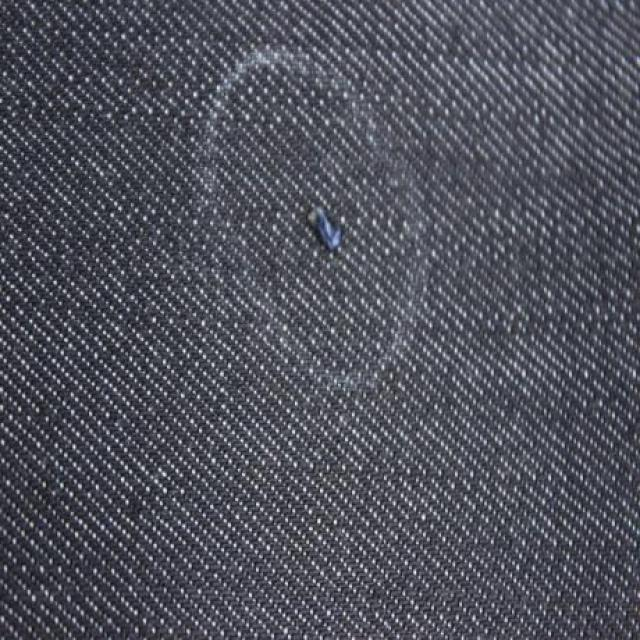Thread_other: (257, 182, 388, 312)
